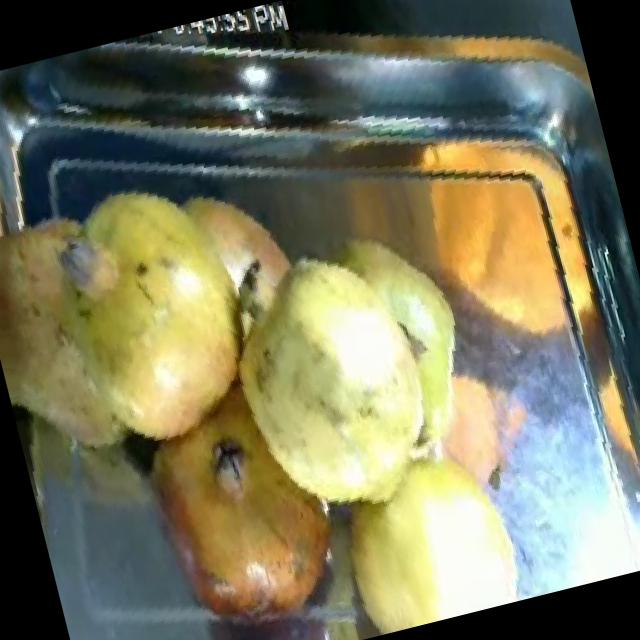fruit: (190, 233, 499, 561), (106, 367, 377, 640)
